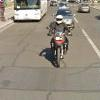Motorcycle: (44, 21, 74, 73)
